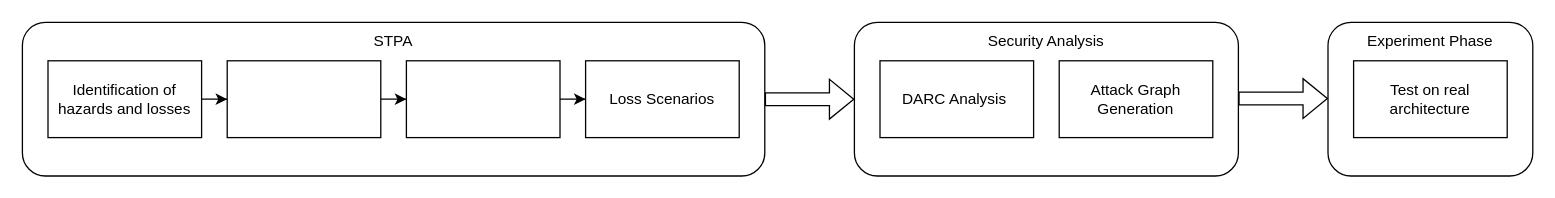
The diagram is 1555 pixels wide and 198 high, and some of its shapes have lost their labels. Each missing label, with the centre of its shape:
"Hierarchical Control Structure" belongs at [303,99].
"Unsafe Control Actions" belongs at [482,99].
